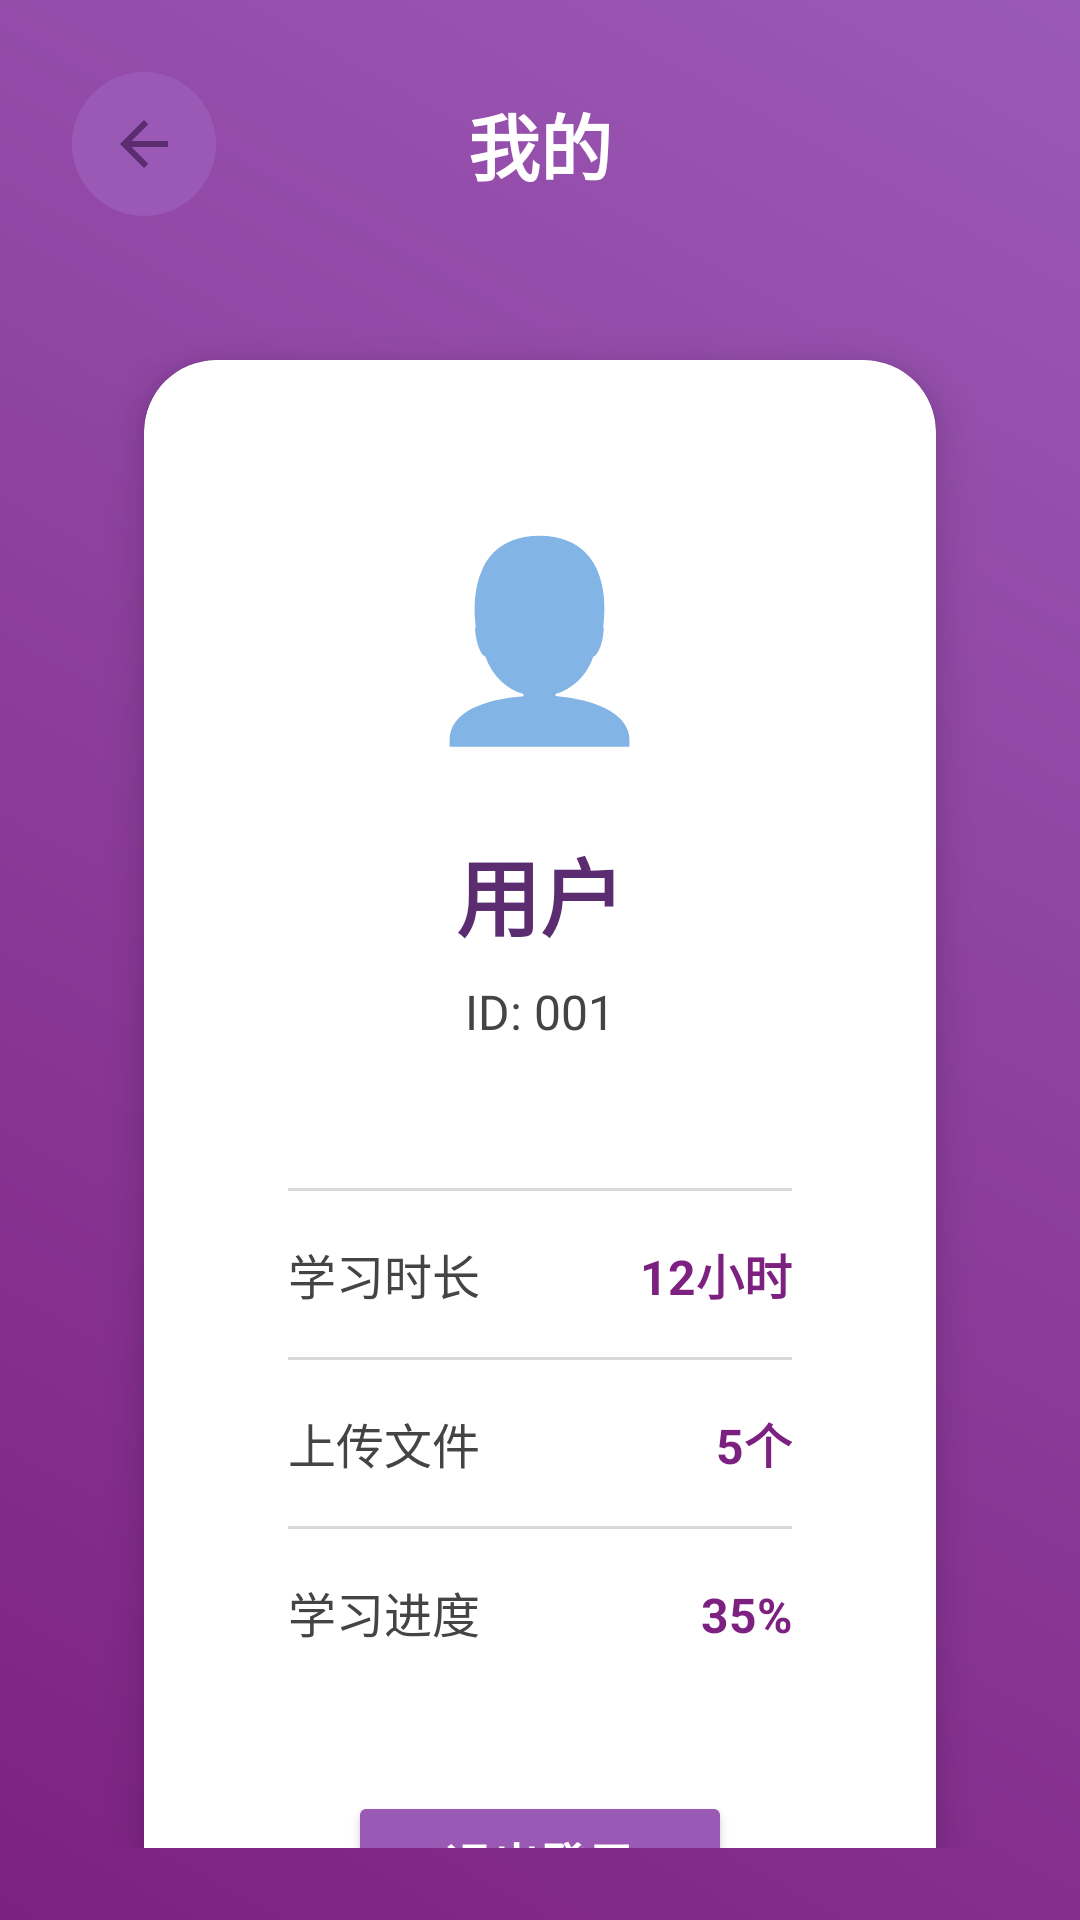

Where to tap for icons on this 1080x1920 app screen, as [x,y]:
返回: [144,144]
